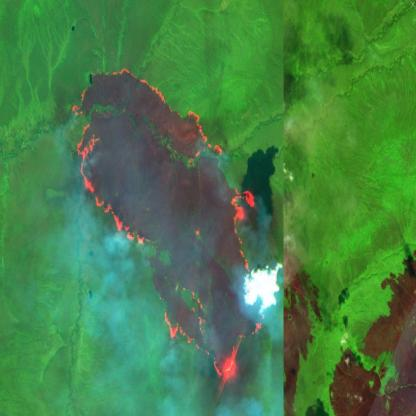fire: (65, 61, 270, 388)
